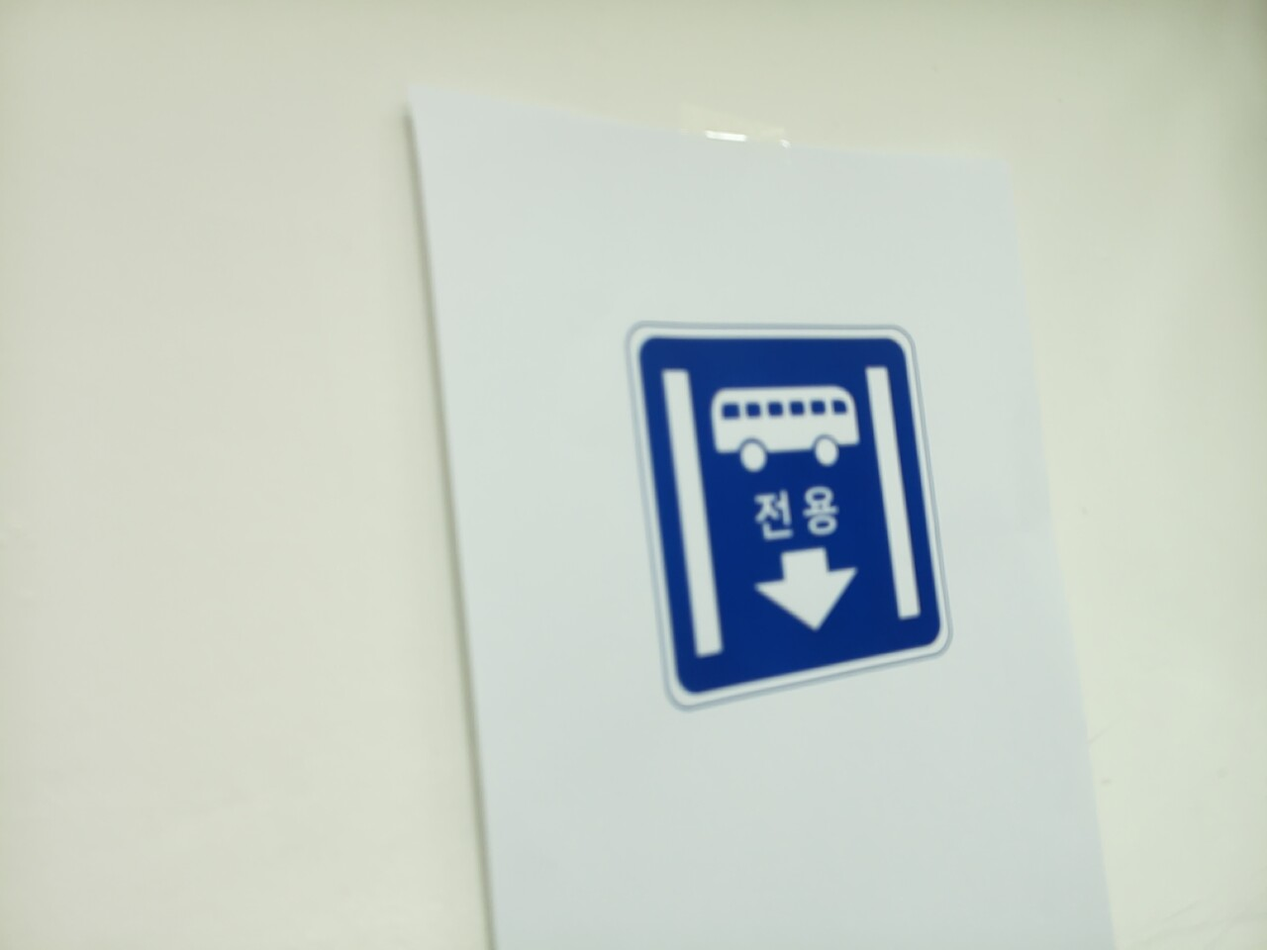bus_only_lane: (630, 327, 950, 704)
